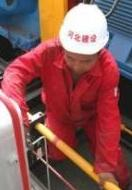hard-hat: (59, 1, 109, 54)
ppe-suit: (0, 36, 132, 185)
